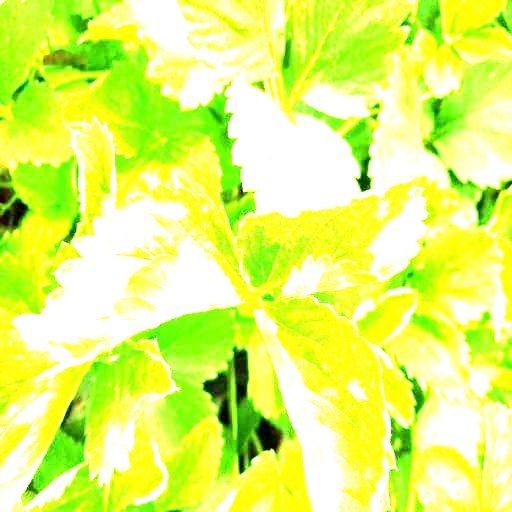Powdery Mildew Leaf: (39, 183, 252, 364), (253, 295, 396, 511), (233, 176, 430, 300), (82, 337, 181, 488)
